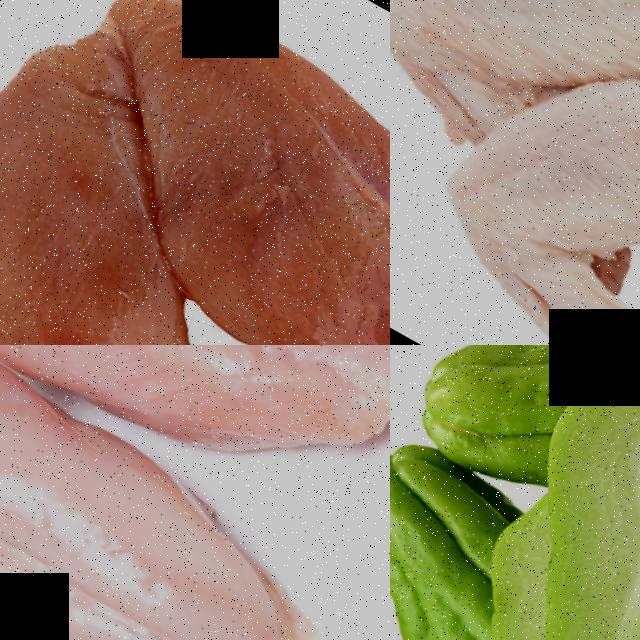chayote: (463, 345, 640, 640), (390, 345, 629, 482), (390, 410, 527, 640)
chicken breast: (0, 0, 390, 345), (0, 345, 347, 640), (0, 345, 390, 560)
chicken wing: (390, 2, 640, 345)
